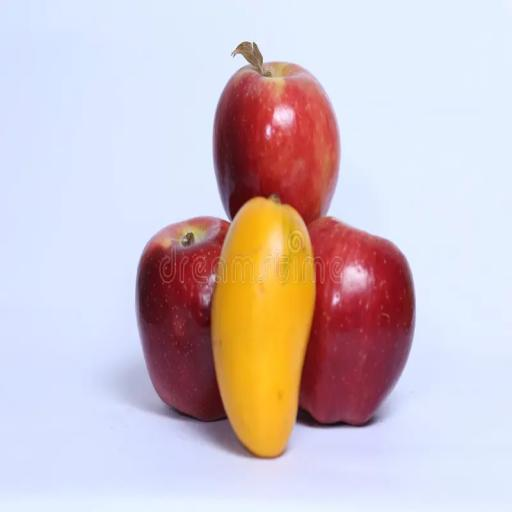apple: (300, 217, 415, 425), (213, 43, 340, 224), (136, 217, 229, 420)
mango: (211, 196, 315, 458)
